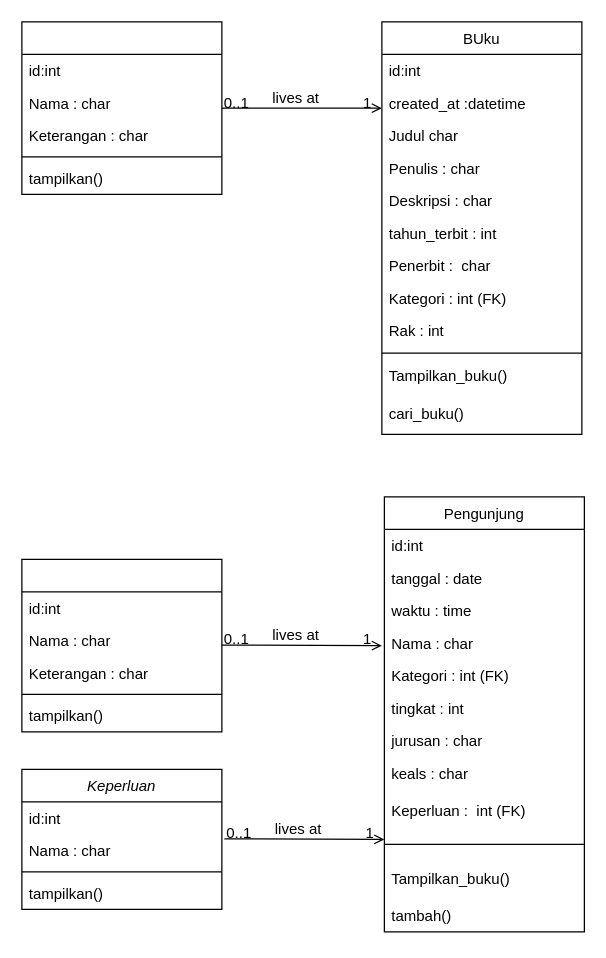
The diagram is 606 pixels wide and 958 high, and some of its shapes have lost their labels. Each missing label, with the box of its shape:
Kategori buku: (21, 21, 222, 194)
Keanggotaan: (21, 558, 222, 732)
